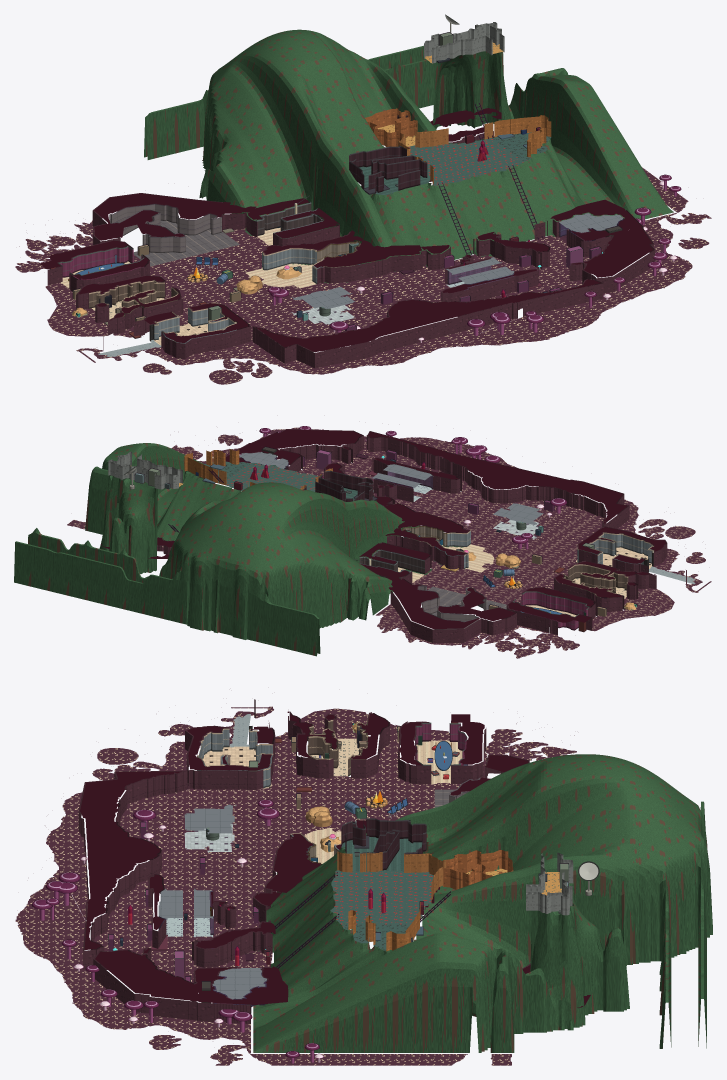
Rendered from fungle.glb.
3 renders of one model, top to bottom at view 1: azimuth 30°, elevation 25°; view 2: azimuth 150°, elevation 25°; view 3: azimuth 270°, elevation 25°, orthographic. The views are drawn at different scales.
Visible parts, largest first — view 1: mountain, cap, wallN_Outside_sw_Outside, wallS_Outside, floor_Outside_-1_-1, fungle_props_4, floor_Highland, floor_Outside_-2_-2, floor_Outside_-1_-2, floor_Outside_-1_0, floor_Outside_1_-2, wallN_DropshipRuins_sw_DropshipRuins (+35 smaller); view 2: mountain, cap, wallS_Outside, floor_Outside_-1_-1, wallN_Outside_sw_Outside, fungle_props_4, floor_Outside_-1_-2, floor_Outside_-1_0, floor_Highland, floor_Outside_0_-2, floor_Outside_-2_-2, floor_Outside_-2_1 (+28 smaller); view 3: mountain, cap, wallS_Outside, wallN_Outside_sw_Outside, floor_Outside_-1_-1, floor_Highland, floor_Outside_-1_-2, floor_Outside_0_-2, floor_Outside_1_-2, floor_Outside_-2_-1, floor_Outside_2_-2, floor_Outside_-2_0 (+37 smaller).
Part boxes in pixels (box(x1,y1,x2,y2)): mountain: box(144, 29, 673, 283); cap: box(19, 108, 688, 353); wallN_Outside_sw_Outside: box(76, 131, 654, 368); wallS_Outside: box(47, 131, 654, 367); floor_Outside_-1_-1: box(205, 275, 373, 330); fungle_props_4: box(50, 32, 622, 338); floor_Highland: box(408, 138, 528, 185); floor_Outside_-2_-2: box(160, 334, 324, 384); floor_Outside_-1_-2: box(269, 305, 434, 373); floor_Outside_-1_0: box(172, 228, 268, 285); floor_Outside_1_-2: box(505, 256, 642, 323); wallN_DropshipRuins_sw_DropshipRuins: box(109, 204, 221, 252); mountain: box(14, 443, 463, 656); cap: box(100, 429, 665, 634); wallS_Outside: box(168, 430, 686, 643); floor_Outside_-1_-1: box(465, 516, 577, 579); wallN_Outside_sw_Outside: box(157, 429, 666, 619); fungle_props_4: box(134, 446, 639, 632); floor_Outside_-1_-2: box(483, 499, 629, 539); floor_Outside_-1_0: box(412, 560, 522, 601); floor_Highland: box(226, 462, 323, 491); floor_Outside_0_-2: box(413, 456, 499, 516); floor_Outside_-2_-2: box(578, 501, 695, 562); floor_Outside_-2_1: box(435, 630, 562, 658); mountain: box(253, 754, 712, 1052); cap: box(64, 711, 590, 1007); wallS_Outside: box(83, 699, 529, 1023); wallN_Outside_sw_Outside: box(78, 712, 530, 1023); floor_Outside_-1_-1: box(206, 802, 353, 864); floor_Highland: box(330, 870, 433, 927); floor_Outside_-1_-2: box(57, 802, 205, 864); floor_Outside_0_-2: box(57, 865, 205, 927); floor_Outside_1_-2: box(57, 927, 205, 990); floor_Outside_-2_-1: box(206, 739, 353, 802); floor_Outside_2_-2: box(71, 990, 205, 1049); floor_Outside_-2_0: box(354, 739, 502, 802).
Size of what is drawn, in the model's own units: 57.53 by 11.95 by 47.14.
273 materials, 257 textured.
